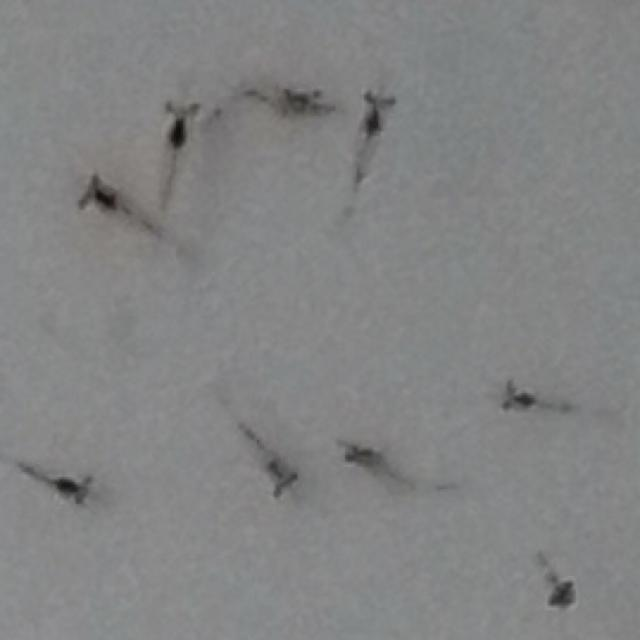shrimp-seed: (244, 429, 305, 500), (21, 462, 97, 508), (159, 98, 206, 158), (270, 81, 338, 122), (542, 556, 587, 615), (74, 172, 130, 216), (357, 90, 403, 142), (331, 435, 388, 475), (499, 378, 542, 420)
